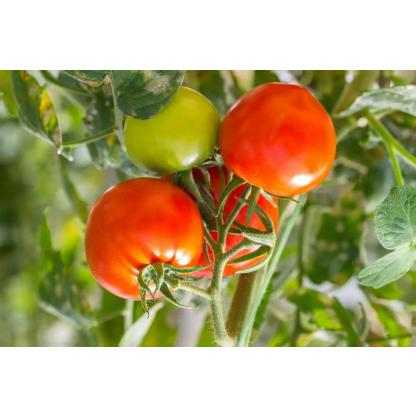tomato: (74, 173, 202, 309), (214, 77, 338, 199), (156, 172, 284, 276), (108, 78, 226, 172)
